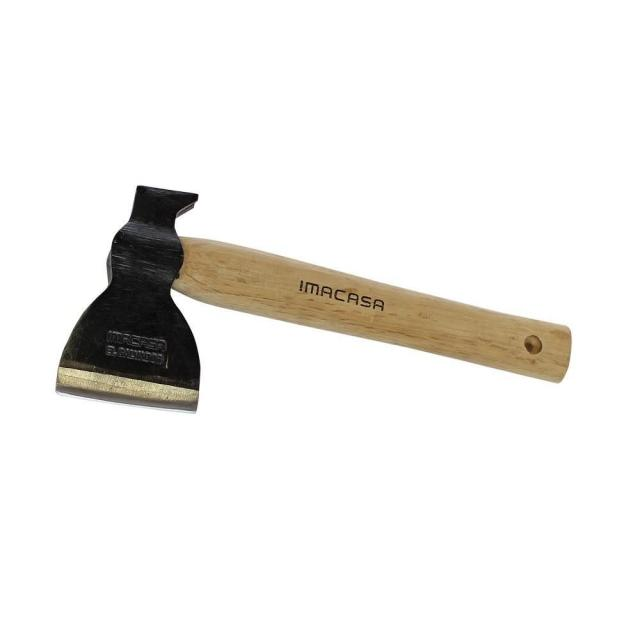Kapak: (64, 136, 586, 477)
